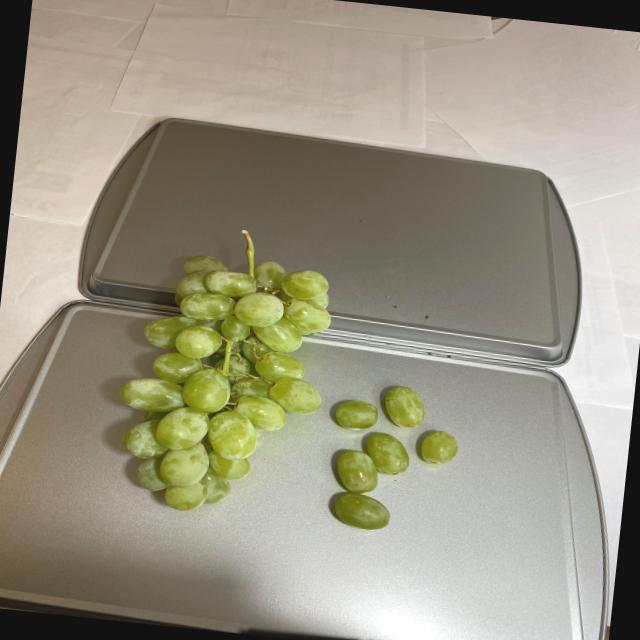grapes: (105, 216, 479, 548), (104, 213, 342, 534), (314, 373, 466, 540)
